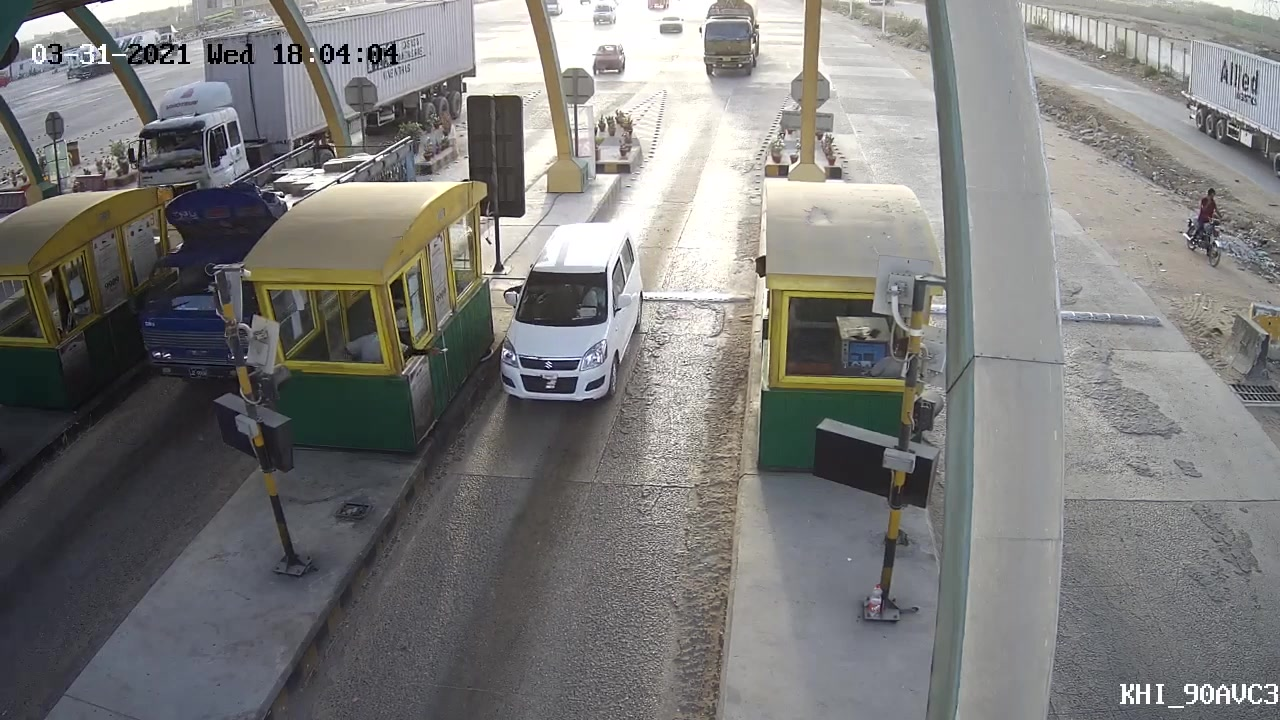F1: (485, 220, 659, 408)
